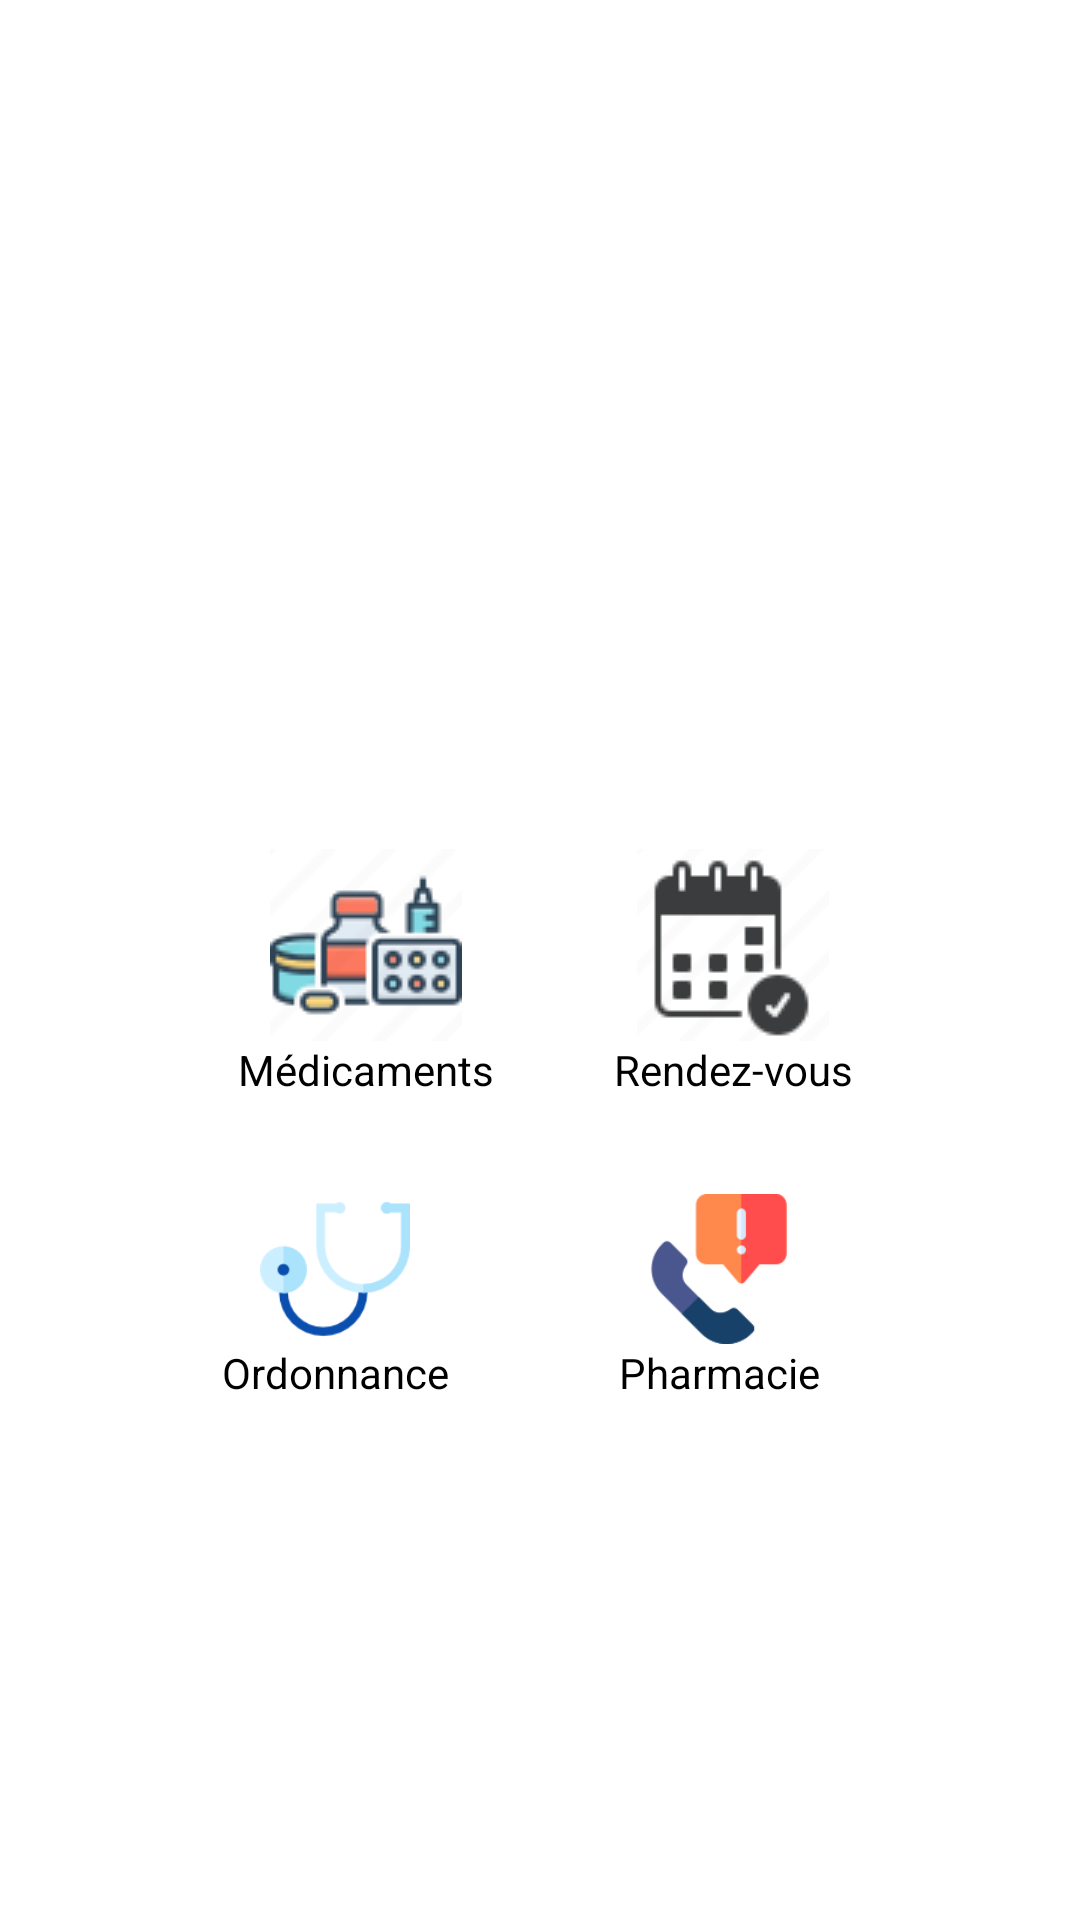

Locate icon controls on the screen. Image size 1080 × 1920, boxes as (x1, y1, x2, y2).
doctrr: (260, 1202, 410, 1336)
urg: (651, 1194, 787, 1344)
